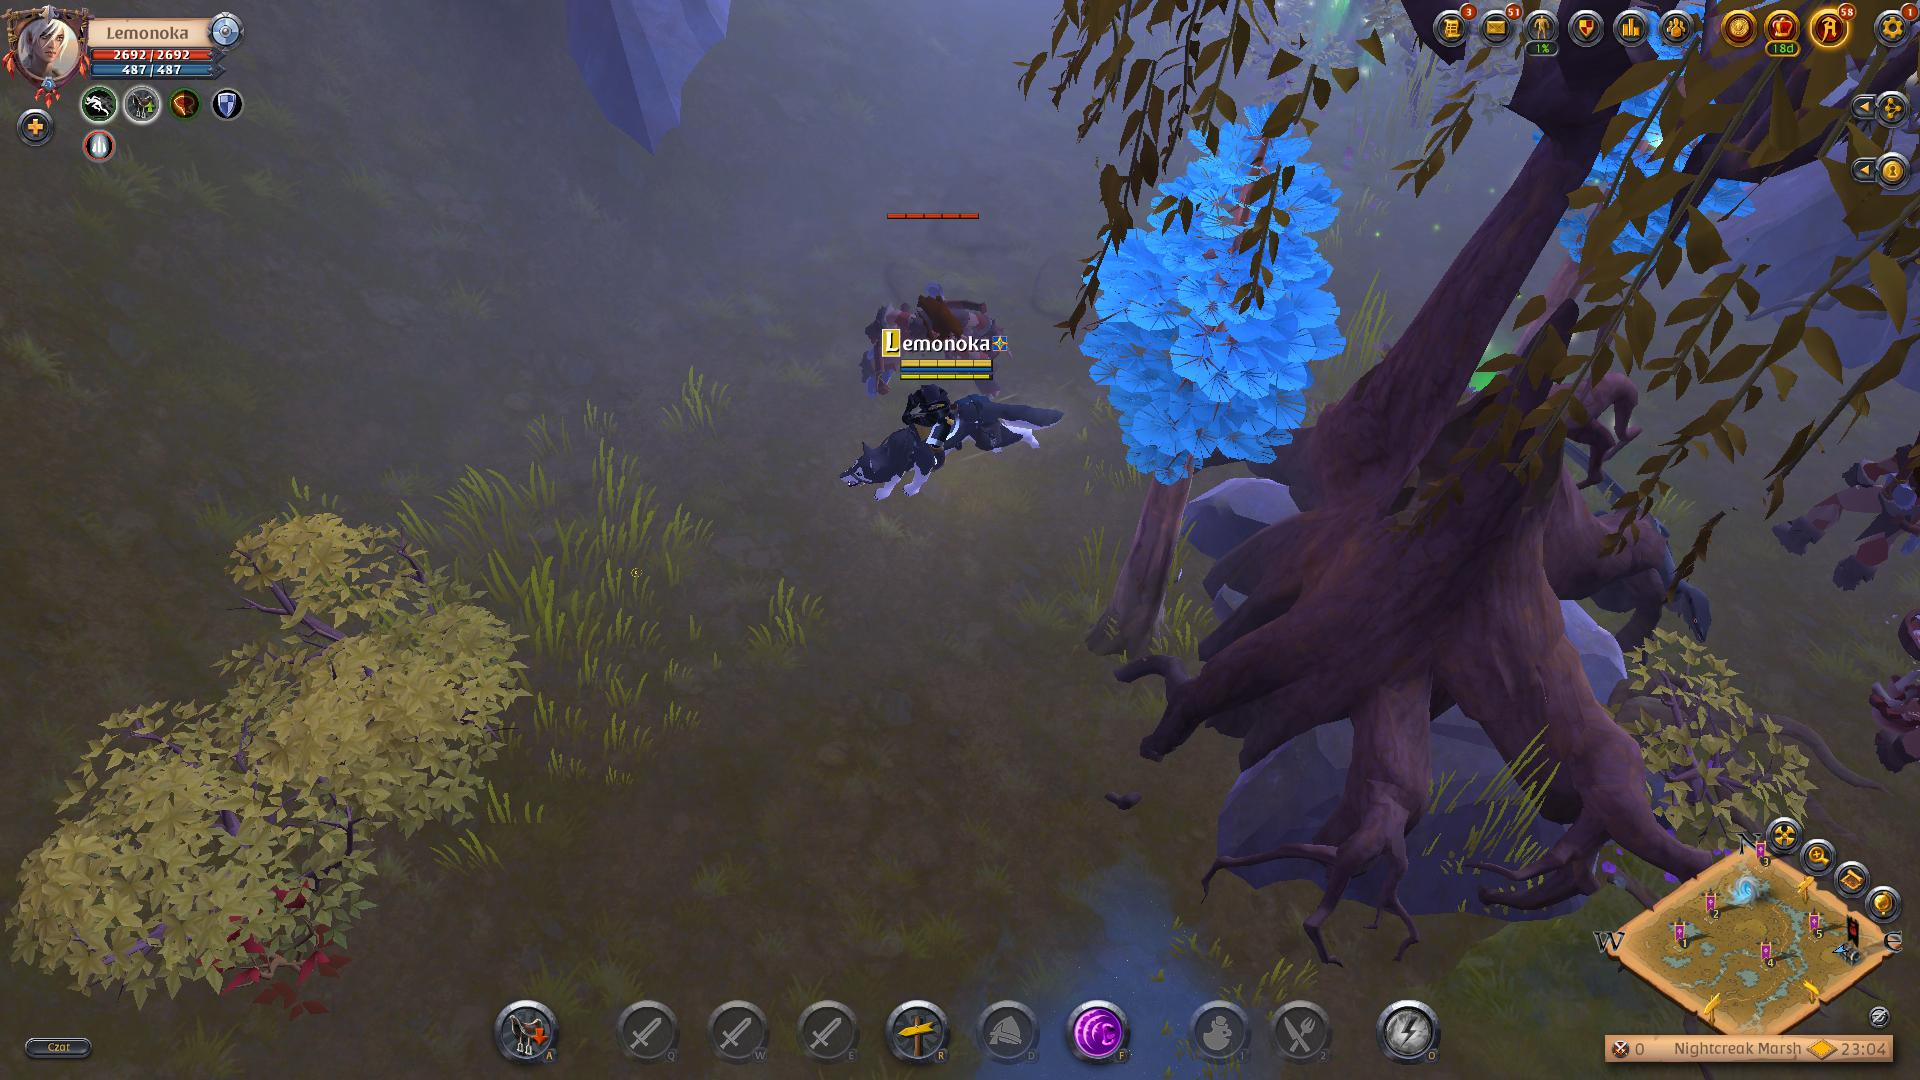wood tier 4: (1076, 102, 1352, 493)
